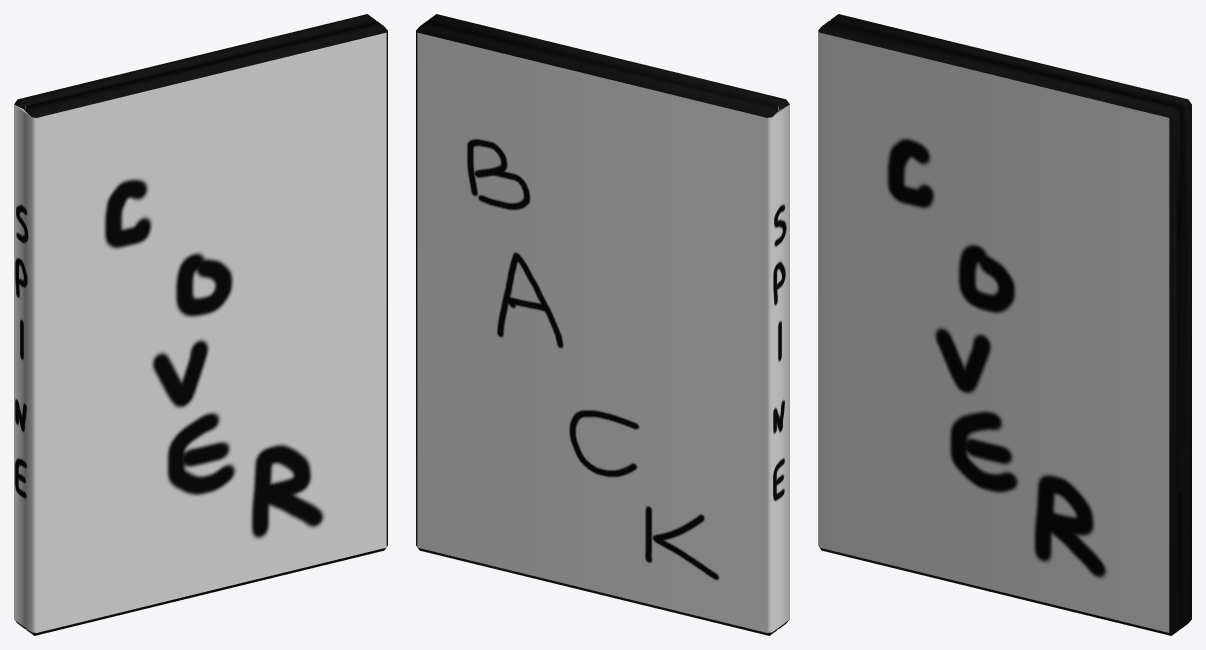
Rendered from dvd_bd_game_case_with_sample_labels.glb.
3 renders of one model, left to right at view 1: azimuth 30°, elevation 25°; view 2: azimuth 150°, elevation 25°; view 3: azimuth 330°, elevation 25°, orthographic.
Visible parts, largest first — view 1: label_1, box_0; view 2: label_1, box_0; view 3: label_1, box_0.
Part boxes in pixels (x1,y1,x2,y2): label_1: (14, 32, 386, 632); box_0: (14, 14, 387, 635); label_1: (417, 32, 789, 632); box_0: (416, 14, 789, 635); label_1: (818, 30, 1169, 632); box_0: (818, 14, 1191, 635).
Bounding box in the file's own units: 0.135 × 0.19 × 0.014.
Materials: 4 (3 with a texture image).
